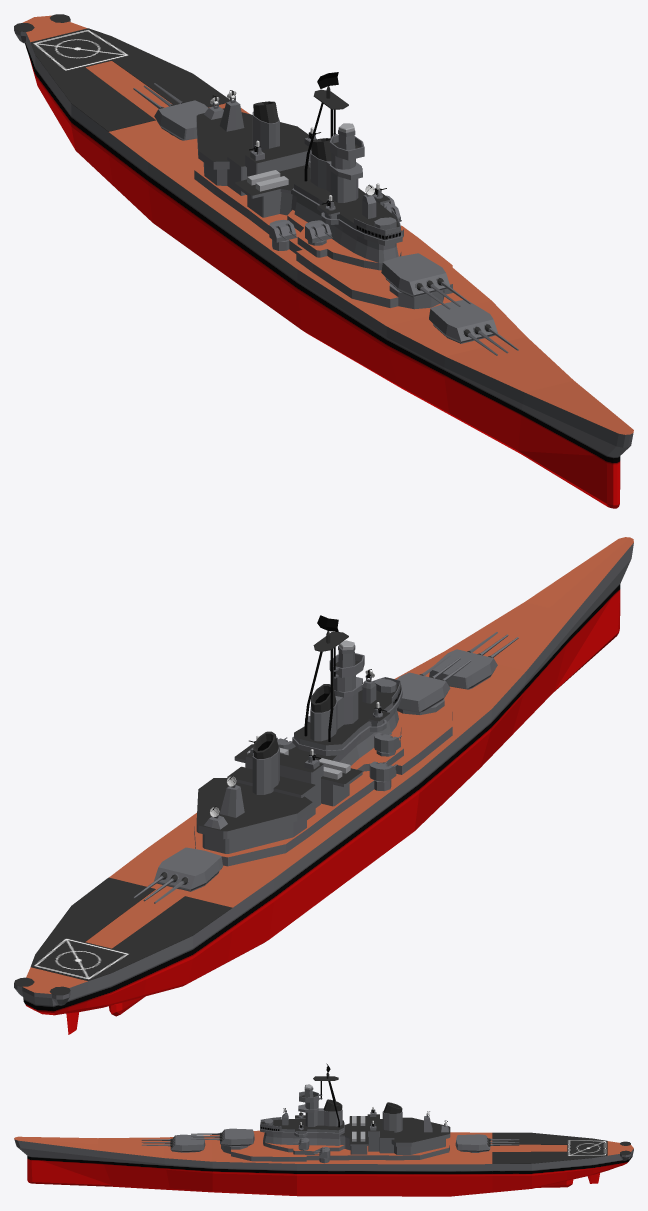
3 views of the same model, one above another, from view 1: azimuth 30°, elevation 25°; view 2: azimuth 150°, elevation 25°; view 3: azimuth 270°, elevation 25° (orthographic). The views are drawn at different scales.
Visible parts, largest first — view 1: Cube.101, Cube.036, Cube.102, Cube.040; view 2: Cube.101, Cube.040, Cube.102, Cube.036; view 3: Cube.101, Cube.040, Cube.036, Cube.102.
Part boxes in pixels (x1=…): Cube.101: x1=14, y1=14, x2=633, y2=508; Cube.036: x1=381, y1=253, x2=450, y2=297; Cube.102: x1=429, y1=300, x2=497, y2=343; Cube.040: x1=154, y1=100, x2=208, y2=140; Cube.101: x1=14, y1=537, x2=633, y2=1034; Cube.040: x1=154, y1=847, x2=222, y2=891; Cube.102: x1=429, y1=649, x2=497, y2=689; Cube.036: x1=397, y1=672, x2=450, y2=712; Cube.101: x1=14, y1=1072, x2=633, y2=1196; Cube.040: x1=455, y1=1134, x2=490, y2=1152; Cube.036: x1=220, y1=1128, x2=254, y2=1146; Cube.102: x1=170, y1=1134, x2=205, y2=1152.
Size of the model in its own units: 3290 by 5652 by 26889.
